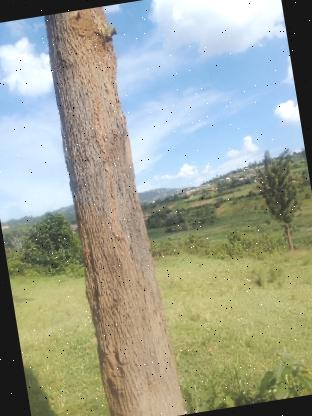tree: (36, 2, 188, 416)
